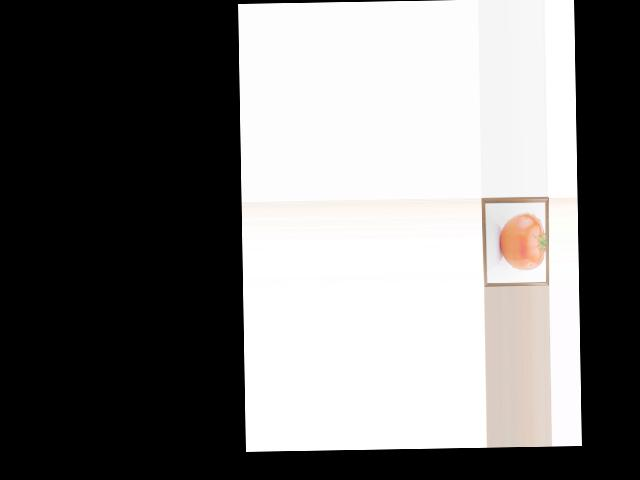tomato: (499, 212, 546, 270)
